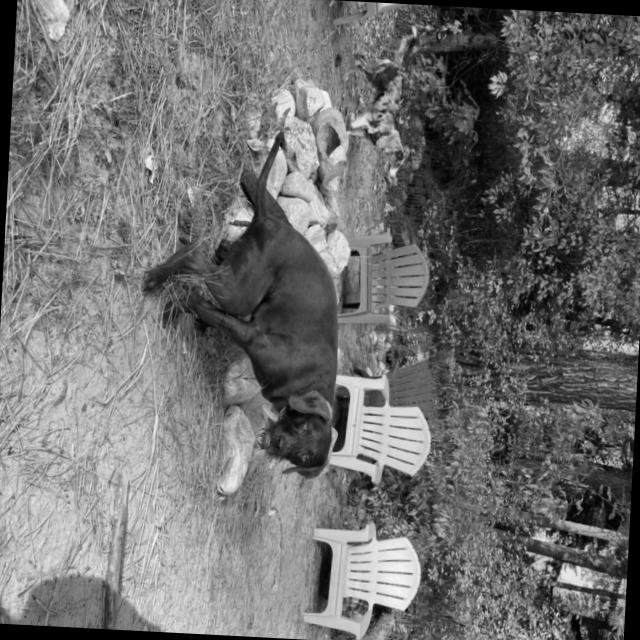squatting: (126, 119, 358, 488)
